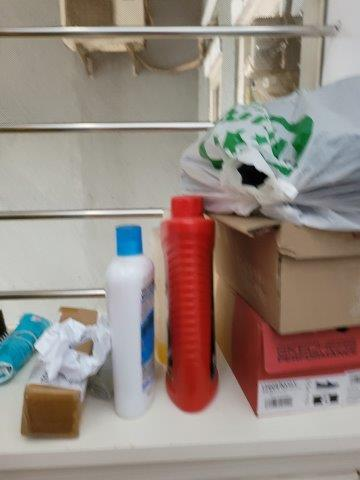kardus: (214, 291, 360, 415), (208, 213, 360, 328), (24, 382, 84, 438)
kertas: (30, 320, 113, 380)
plastik: (173, 74, 360, 226)
